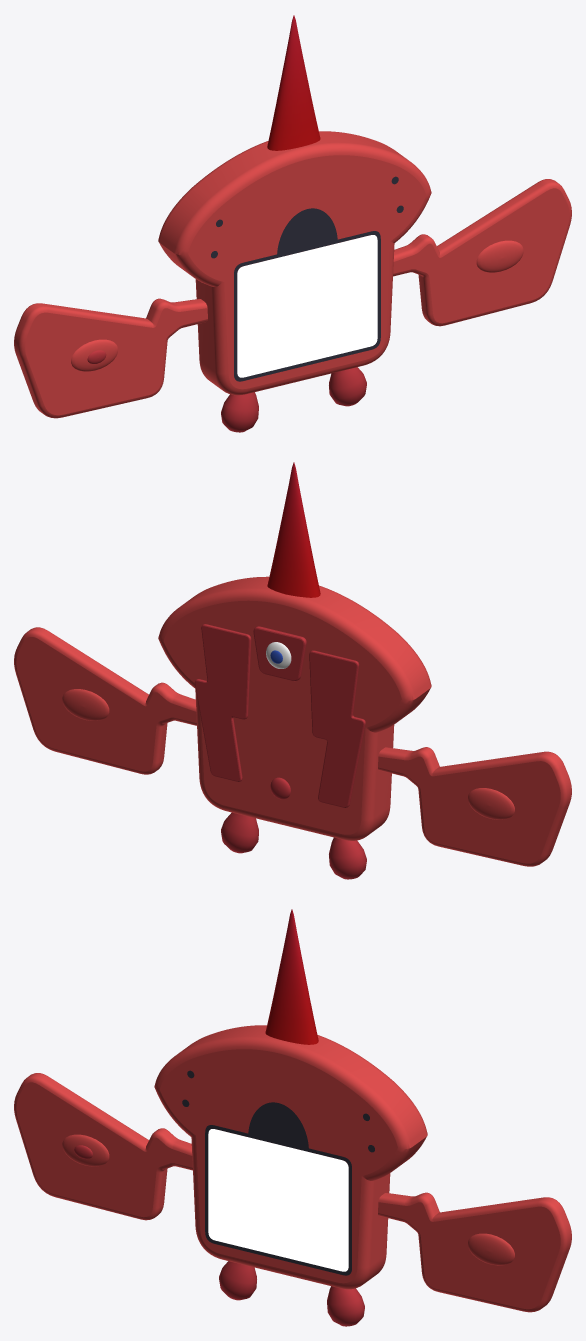
File: rotom_device.glb
3 views of the same model, one above another, from view 1: azimuth 30°, elevation 25°; view 2: azimuth 150°, elevation 25°; view 3: azimuth 330°, elevation 25° (orthographic).
Visible parts, largest first — view 1: Body, Screen, ArmL, ArmR, Spike, Feet, Brow, ScreenFrame, HandR, HandL; view 2: Body, ArmR, ArmL, BackBolts, Spike, Feet, BackPort, HandR, HandL; view 3: Body, Screen, ArmR, ArmL, Spike, Feet, Brow, ScreenFrame, HandR, HandL.
Part boxes in pixels (<box>): Body: <box>158,131,431,395</box>; Screen: <box>237,235,377,377</box>; ArmL: <box>14,298,207,418</box>; ArmR: <box>393,179,571,326</box>; Spike: <box>267,15,320,150</box>; Feet: <box>221,367,366,432</box>; Brow: <box>277,208,337,257</box>; ScreenFrame: <box>234,231,380,381</box>; HandR: <box>476,240,523,272</box>; HandL: <box>71,339,117,371</box>; Body: <box>158,576,431,840</box>; ArmR: <box>14,627,196,774</box>; ArmL: <box>378,747,571,866</box>; BackBolts: <box>194,624,365,807</box>; Spike: <box>267,462,320,597</box>; Feet: <box>221,812,366,879</box>; BackPort: <box>253,626,306,681</box>; HandR: <box>62,689,109,720</box>; HandL: <box>468,788,514,819</box>; Body: <box>154,1025,427,1289</box>; Screen: <box>208,1129,348,1271</box>; ArmR: <box>378,1192,571,1312</box>; ArmL: <box>14,1073,192,1220</box>; Spike: <box>265,909,318,1044</box>; Feet: <box>219,1261,364,1326</box>; Brow: <box>248,1102,308,1151</box>; ScreenFrame: <box>205,1125,351,1275</box>; HandR: <box>468,1233,514,1265</box>; HandL: <box>62,1134,109,1166</box>.
Bounding box in the file's own units: 6.54 × 4.56 × 0.648.
